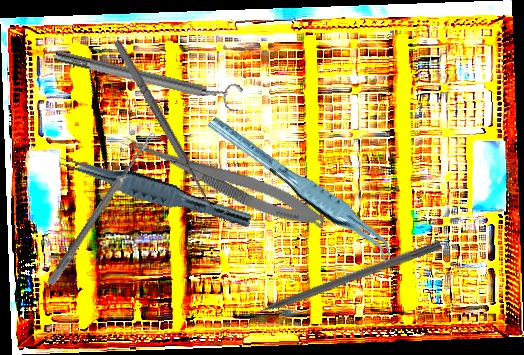Fixation Ring: (52, 39, 244, 115)
Hook Surgical: (109, 32, 231, 224)
Micro Scissor: (115, 128, 330, 235)
Pusher: (233, 238, 443, 324)
Spatula Surgical: (32, 58, 164, 192)
Surgical Spoon: (46, 130, 157, 287)
Tissue Forceps: (206, 96, 398, 280), (55, 151, 255, 229)
